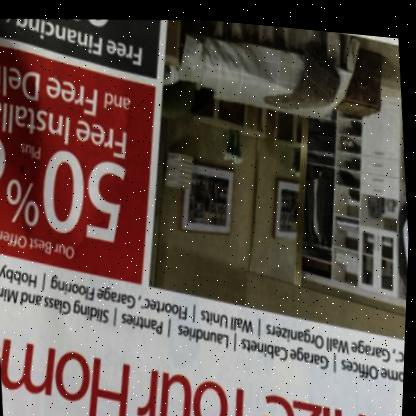Paper: (0, 15, 410, 416)
